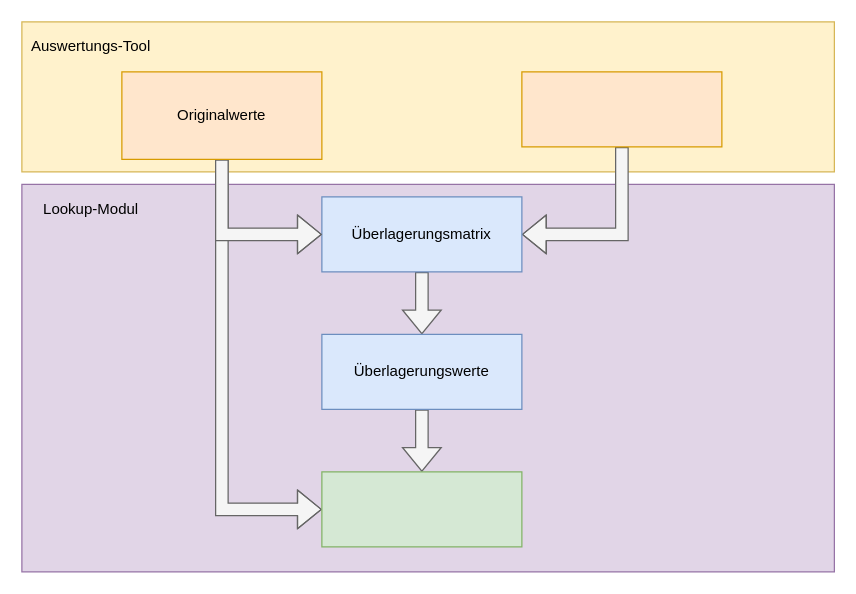
The diagram is 856 pixels wide and 594 high, and some of its shapes have lost their labels. Each missing label, with the centre of its shape:
Cell-Key-Bestimmung aus Zufallszahlen: the point at 621,109
End-Werte für Veröffentlichung: the point at 421,509
